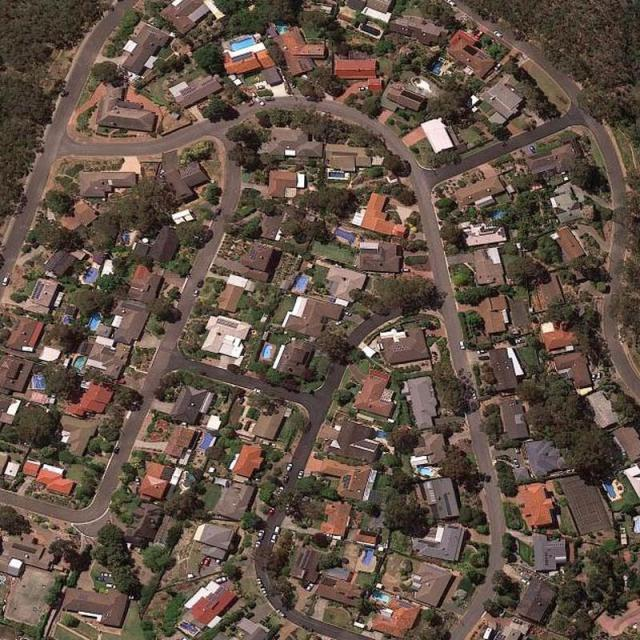vehicle: (431, 61, 442, 74), (105, 582, 117, 590), (255, 97, 265, 106), (303, 582, 314, 590), (470, 388, 478, 399), (478, 355, 490, 362), (269, 533, 277, 543), (202, 556, 210, 566), (520, 578, 530, 586), (99, 572, 112, 578), (2, 275, 9, 286), (333, 319, 344, 326), (494, 62, 502, 71), (134, 477, 142, 486), (477, 348, 488, 354), (514, 458, 520, 469), (445, 1, 456, 7), (191, 288, 199, 296), (256, 530, 264, 538), (494, 30, 502, 38), (285, 462, 292, 471), (530, 145, 537, 154), (261, 588, 268, 597), (252, 387, 261, 394), (214, 578, 226, 583), (257, 578, 263, 588), (196, 279, 204, 286), (276, 486, 283, 494), (596, 371, 601, 382), (358, 86, 368, 91), (459, 340, 464, 350), (273, 525, 279, 533), (343, 311, 352, 316), (402, 268, 411, 273), (254, 541, 260, 548), (298, 469, 302, 479), (591, 373, 595, 381)
